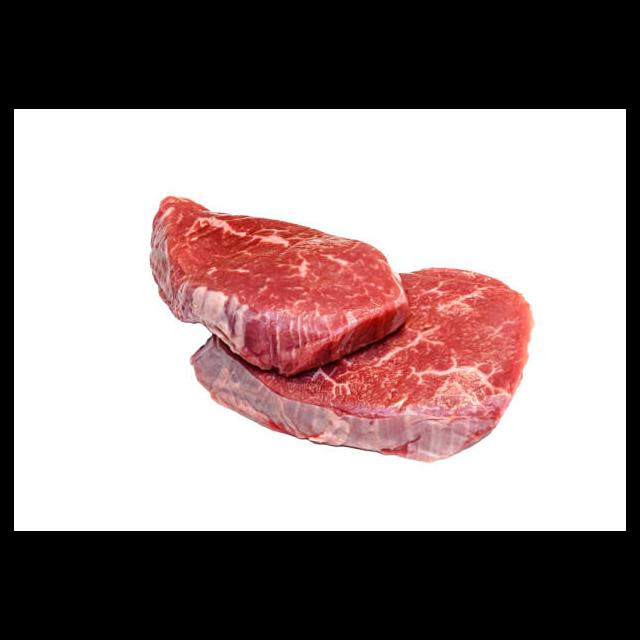beef: (150, 195, 535, 463)
